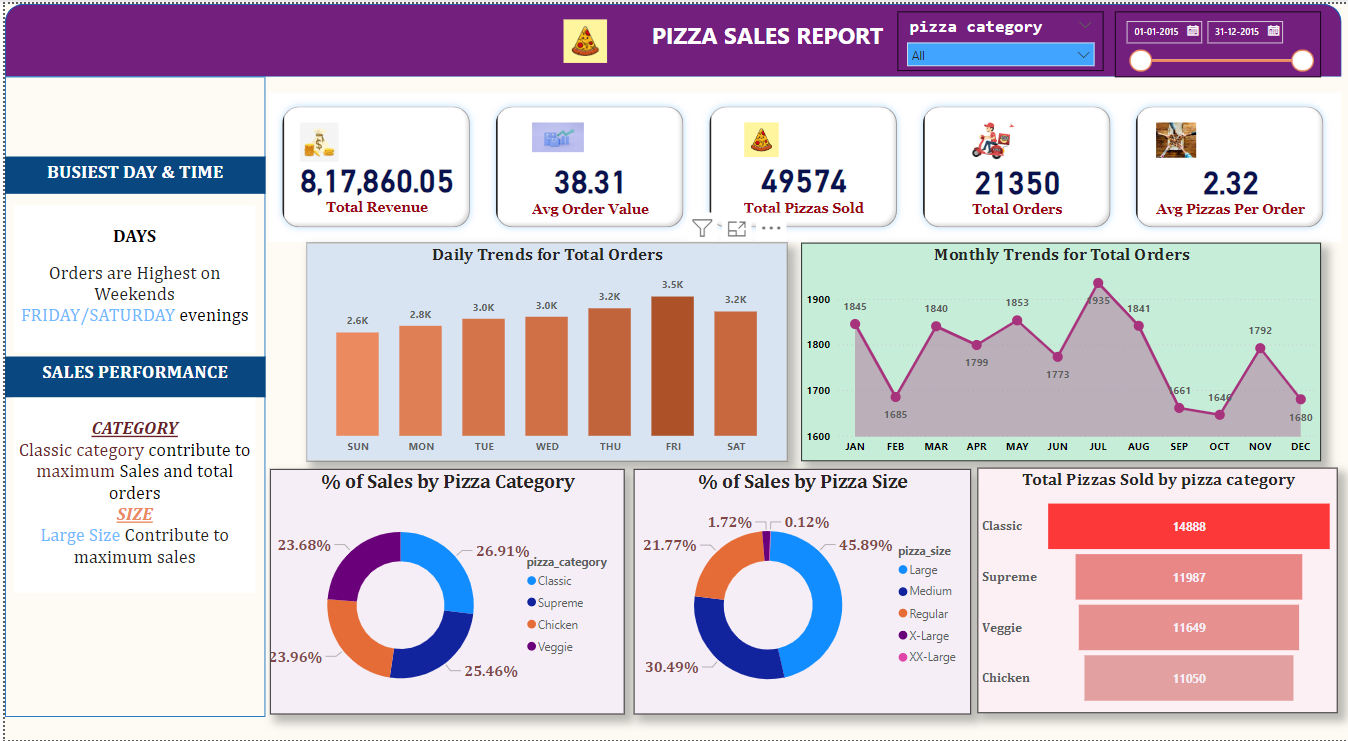

This screenshot's page, from the dashboard's own definition file:
{"tool":"powerbi","page":{"name":"HOME","canvas":[1555,852],"ordinal":0},"visuals":[{"type":"cardVisual","fields":{"Data":["pizza_sales.Total Revenue","pizza_sales.Avg Order Value","pizza_sales.Total Pizzas Sold","pizza_sales.Total Orders","pizza_sales.Avg Pizzas Per Order"]},"box":[305.7,102.9,1241.4,172.9],"z":0},{"type":"shape","box":[0,0,1547.1,84.3],"z":1000},{"type":"textbox","box":[744.3,12.9,288.6,60],"z":2000},{"type":"image","box":[627.1,12.9,90,60],"z":3000},{"type":"columnChart","title":"Daily Trends for Total Orders","fields":{"Category":["pizza_sales.Order Day"],"Y":["pizza_sales.Total Orders"]},"box":[348.6,275.7,557.1,252.9],"z":4000},{"type":"areaChart","title":"Monthly Trends for Total Orders ","fields":{"Y":["pizza_sales.Total Orders"],"Category":["pizza_sales.Order Month"]},"box":[921.4,275.7,601.4,252.9],"z":5000},{"type":"donutChart","title":"% of Sales by Pizza Category","fields":{"Category":["pizza_sales.pizza_category"],"Y":["pizza_sales.Total Revenue"]},"box":[307.1,538.6,410,284.3],"z":6000},{"type":"donutChart","title":"% of Sales by Pizza Size","fields":{"Y":["pizza_sales.Total Revenue"],"Category":["pizza_sales.pizza_size"]},"box":[727.1,538.6,390,284.3],"z":7000},{"type":"funnel","title":"Total Pizzas Sold by pizza category","fields":{"Category":["pizza_sales.pizza_category"],"Y":["pizza_sales.Total Pizzas Sold"]},"box":[1125.7,537.1,417.1,284.3],"z":8000},{"type":"shape","box":[0,84.3,301.4,741.4],"z":9000},{"type":"textbox","box":[0,177.1,301.4,42.9],"z":10000},{"type":"textbox","box":[10,232.9,280,170],"z":11000},{"type":"textbox","box":[0,408.6,301.4,47.1],"z":12000},{"type":"textbox","box":[10,455.7,280,225.7],"z":13000},{"type":"slicer","fields":{"Values":["pizza_sales.pizza_category"]},"box":[1032.9,8.6,238.6,68.6],"z":14000},{"type":"slicer","fields":{"Values":["pizza_sales.order_date"]},"box":[1284.3,8.6,238.6,75.7],"z":15000}]}

Visuals, with their boxes in screenshot pixels (x1, y1, x2, y2), scaled from the page's 1555x852 canvas onto the 1348x741 screenshot:
cardVisual - pizza_sales.Total Revenue x pizza_sales.Avg Order Value: left=265, top=89, right=1341, bottom=240
shape: left=0, top=0, right=1341, bottom=73
textbox: left=645, top=11, right=895, bottom=63
image: left=544, top=11, right=622, bottom=63
"Daily Trends for Total Orders" columnChart: left=302, top=240, right=785, bottom=460
"Monthly Trends for Total Orders " areaChart: left=799, top=240, right=1320, bottom=460
"% of Sales by Pizza Category" donutChart: left=266, top=468, right=622, bottom=716
"% of Sales by Pizza Size" donutChart: left=630, top=468, right=968, bottom=716
"Total Pizzas Sold by pizza category" funnel: left=976, top=467, right=1337, bottom=714
shape: left=0, top=73, right=261, bottom=718
textbox: left=0, top=154, right=261, bottom=191
textbox: left=9, top=203, right=251, bottom=350
textbox: left=0, top=355, right=261, bottom=396
textbox: left=9, top=396, right=251, bottom=593
slicer - pizza_sales.pizza_category: left=895, top=7, right=1102, bottom=67
slicer - pizza_sales.order_date: left=1113, top=7, right=1320, bottom=73
